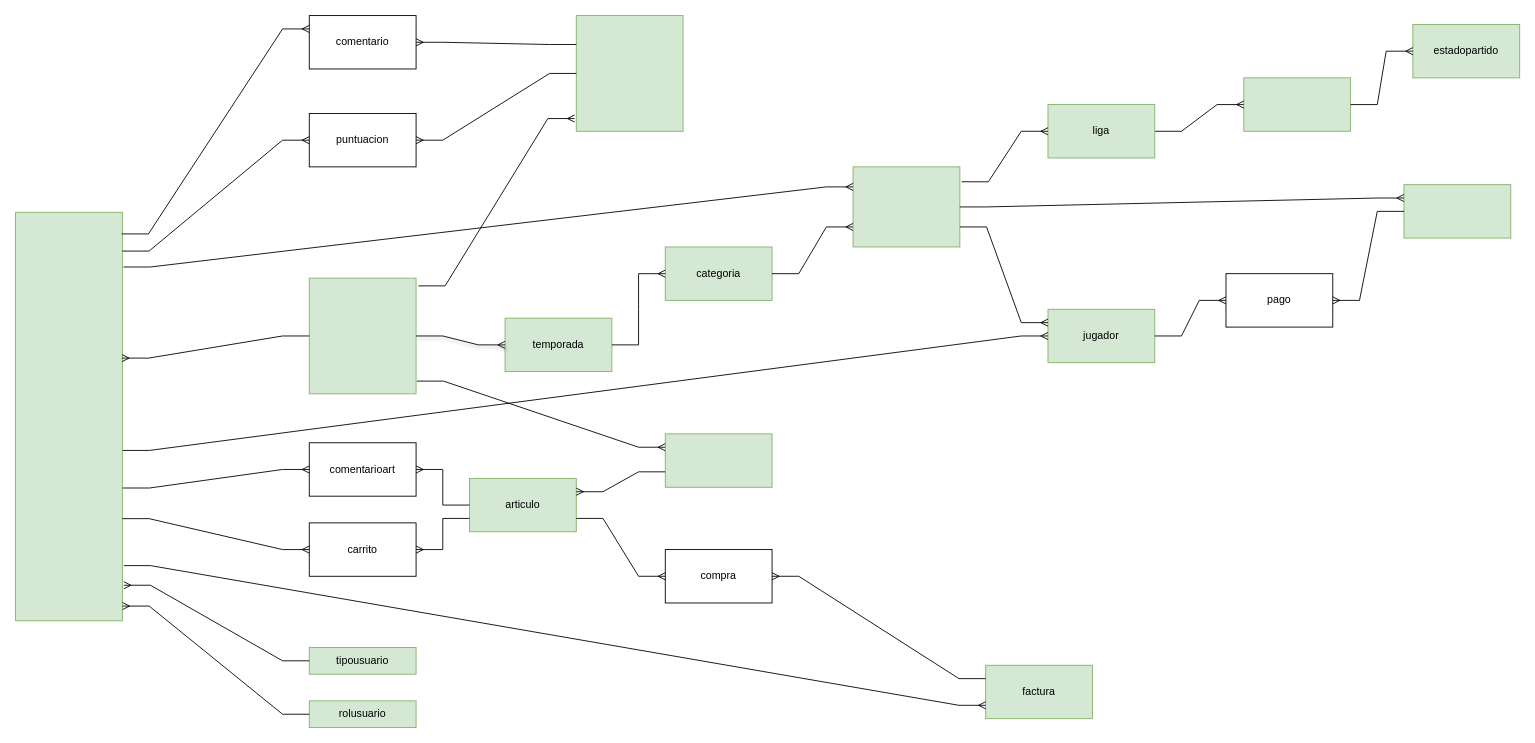
This 1535x743 diagram has some shape labels left out. Each missing label, with the centre of its shape:
club: (362,335)
cuota: (1457,211)
equipo: (906,206)
noticia: (629,73)
partido: (1297,104)
tipoarticulo: (718,460)
usuario: (68,416)
